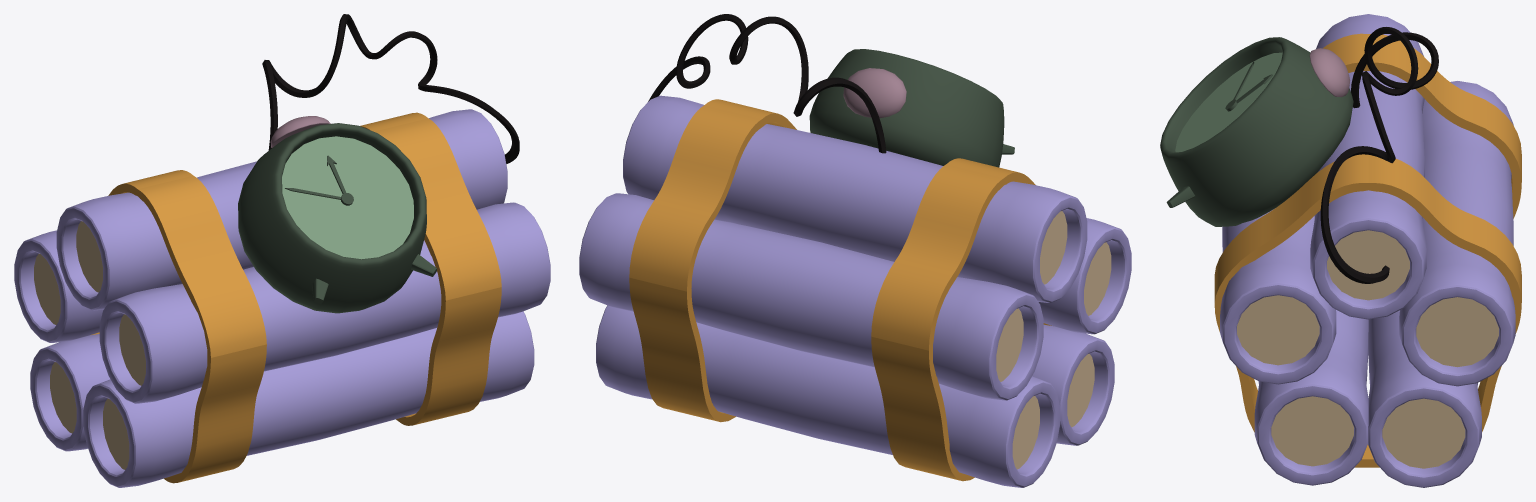
Rendered from tnt.FBX.
The picture shows the model from 3 angles, left to right: view 1: azimuth 30°, elevation 25°; view 2: azimuth 150°, elevation 25°; view 3: azimuth 270°, elevation 25°; orthographic projection. The views are drawn at different scales.
Parts seen in each view (by area): view 1: Cylinder004, Cylinder005, Line019, Line020, Cylinder001, Cylinder006, Cylinder007, Cylinder003, Cylinder002, Helix001, Sphere001; view 2: Cylinder002, Cylinder001, Cylinder003, Line020, Line019, Cylinder006, Cylinder004, Cylinder005, Helix001, Sphere001; view 3: Cylinder002, Cylinder006, Cylinder001, Line020, Cylinder005, Cylinder003, Cylinder004, Line019, Helix001, Cylinder007, Sphere001.
Part boxes in pixels (x1,y1,x2,y2): Cylinder004: (83, 311, 534, 487); Cylinder005: (99, 202, 550, 403); Line019: (90, 170, 266, 483); Line020: (360, 112, 501, 425); Cylinder001: (56, 109, 507, 310); Cylinder006: (238, 123, 426, 313); Cylinder007: (282, 136, 413, 259); Cylinder003: (30, 334, 110, 451); Cylinder002: (14, 230, 103, 342); Helix001: (262, 14, 519, 163); Sphere001: (270, 116, 330, 147); Cylinder002: (579, 193, 1043, 400); Cylinder001: (623, 95, 1087, 302); Cylinder003: (596, 305, 1060, 487); Line020: (629, 99, 796, 422); Line019: (871, 158, 1051, 481); Cylinder006: (809, 49, 1004, 167); Cylinder004: (1032, 324, 1114, 445); Cylinder005: (1038, 218, 1131, 334); Helix001: (648, 14, 886, 153); Sphere001: (843, 68, 906, 118); Cylinder002: (1399, 81, 1515, 386); Cylinder006: (1160, 37, 1353, 226); Cylinder001: (1310, 14, 1426, 319); Line020: (1214, 154, 1521, 467); Cylinder005: (1220, 209, 1336, 384); Cylinder003: (1368, 310, 1481, 487); Cylinder004: (1254, 310, 1368, 485); Line019: (1323, 33, 1521, 218); Helix001: (1320, 27, 1438, 283); Cylinder007: (1175, 52, 1282, 152); Sphere001: (1309, 48, 1350, 97).
Bounding box in the file's own units: 88.46 × 76.39 × 62.36.
